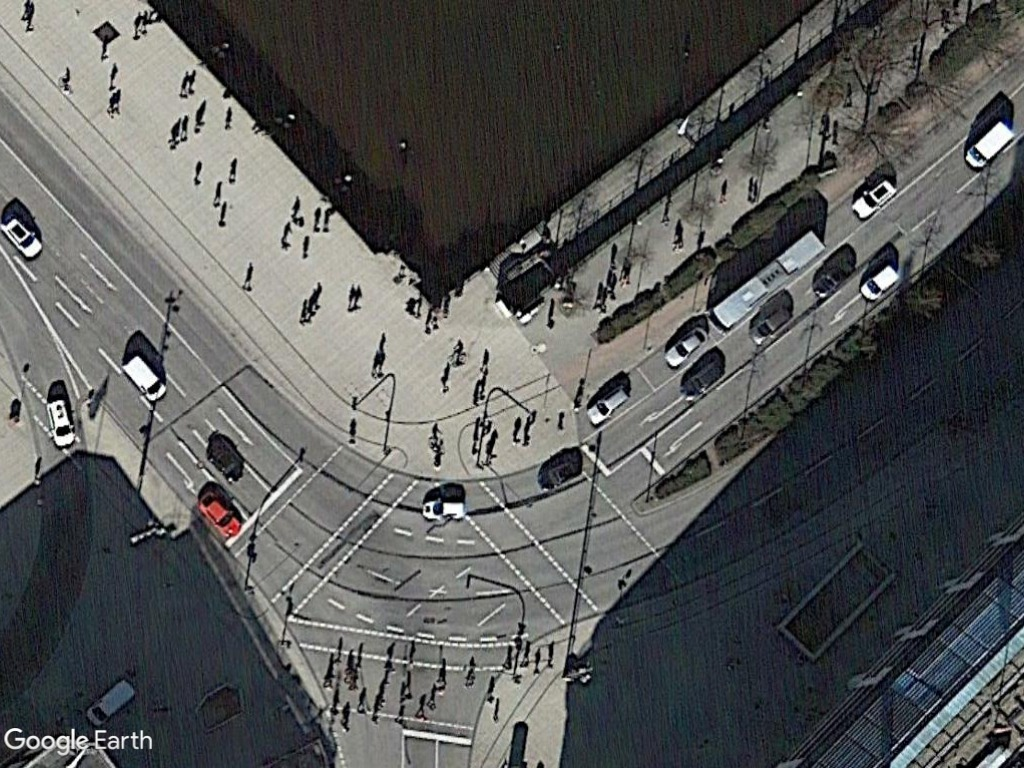bus: (705, 223, 827, 332)
car: (194, 489, 244, 543), (581, 379, 634, 429), (847, 176, 899, 224), (1, 209, 46, 263), (747, 302, 794, 353), (665, 324, 710, 371), (45, 395, 80, 452), (416, 496, 472, 526)
van: (960, 117, 1017, 176), (81, 676, 138, 728), (119, 352, 170, 406), (856, 262, 901, 304)
